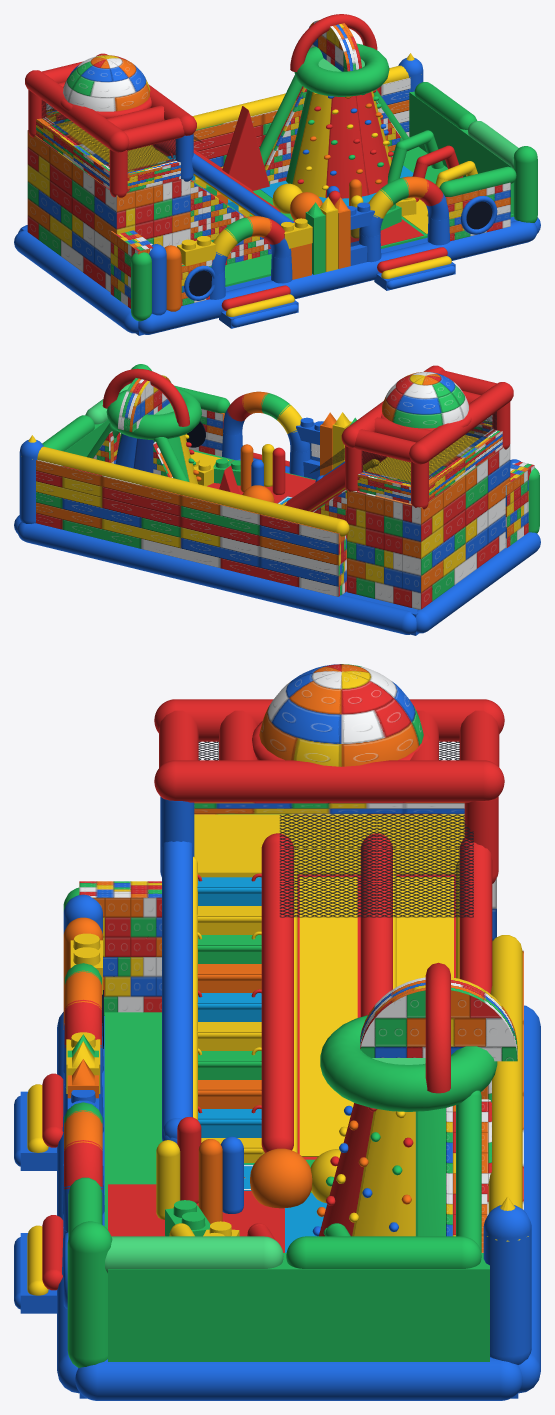
The model's file is bouncy_castle.glb.
The picture shows the model from 3 angles, top to bottom: view 1: azimuth 30°, elevation 25°; view 2: azimuth 150°, elevation 25°; view 3: azimuth 270°, elevation 25°; orthographic projection. The views are drawn at different scales.
Parts seen in each view (by area): view 1: Slide_Upper_Platform_And_Tower, Front_Entrances_And_Wall, Volcano_Climbing_Tower, Base_Mattress, Right_Wall_And_Obstacles, Slide_Climbing_Stairs, BackWall_And_VolcanoClimb, LegoMosaic_TopDome, Inner_Play_Obstacles, Center_Red_Fin, UpperPlatform_Floor, DualSlide_Lanes; view 2: Slide_Upper_Platform_And_Tower, BackWall_And_VolcanoClimb, Base_Mattress, Volcano_Climbing_Tower, Front_Entrances_And_Wall, LegoMosaic_TopDome, Right_Wall_And_Obstacles, Inner_Play_Obstacles, DualSlide_Lanes, UpperPlatform_Floor, Center_Red_Fin; view 3: Right_Wall_And_Obstacles, DualSlide_Lanes, Slide_Upper_Platform_And_Tower, Base_Mattress, Volcano_Climbing_Tower, Front_Entrances_And_Wall, Slide_Climbing_Stairs, UpperPlatform_Floor, LegoMosaic_TopDome, Inner_Play_Obstacles, BackWall_And_VolcanoClimb, SlideLane_2 (+9 smaller).
Part boxes in pixels (left/top/right/bottom): Slide_Upper_Platform_And_Tower: left=25, top=53, right=196, bottom=308; Front_Entrances_And_Wall: left=131, top=146, right=537, bottom=328; Volcano_Climbing_Tower: left=259, top=14, right=408, bottom=198; Base_Mattress: left=14, top=146, right=540, bottom=335; Right_Wall_And_Obstacles: left=387, top=53, right=518, bottom=216; Slide_Climbing_Stairs: left=168, top=152, right=294, bottom=264; BackWall_And_VolcanoClimb: left=192, top=65, right=410, bottom=168; LegoMosaic_TopDome: left=63, top=55, right=150, bottom=111; Inner_Play_Obstacles: left=272, top=179, right=416, bottom=238; Center_Red_Fin: left=222, top=106, right=269, bottom=190; UpperPlatform_Floor: left=59, top=123, right=169, bottom=169; DualSlide_Lanes: left=151, top=136, right=288, bottom=217; Slide_Upper_Platform_And_Tower: left=341, top=365, right=534, bottom=609; BackWall_And_VolcanoClimb: left=36, top=446, right=349, bottom=596; Base_Mattress: left=14, top=449, right=540, bottom=635; Volcano_Climbing_Tower: left=87, top=368, right=201, bottom=483; Front_Entrances_And_Wall: left=131, top=364, right=539, bottom=533; LegoMosaic_TopDome: left=382, top=371, right=468, bottom=428; Right_Wall_And_Obstacles: left=19, top=383, right=130, bottom=523; Inner_Play_Obstacles: left=191, top=444, right=285, bottom=502; DualSlide_Lanes: left=284, top=448, right=386, bottom=521; UpperPlatform_Floor: left=368, top=435, right=478, bottom=481; Center_Red_Fin: left=219, top=465, right=239, bottom=494; Right_Wall_And_Obstacles: left=105, top=1196, right=531, bottom=1364; DualSlide_Lanes: left=261, top=814, right=492, bottom=1167; Slide_Upper_Platform_And_Tower: left=79, top=699, right=504, bottom=1015; Base_Mattress: left=57, top=1005, right=540, bottom=1400; Volcano_Climbing_Tower: left=312, top=962, right=517, bottom=1252; Front_Entrances_And_Wall: left=14, top=887, right=112, bottom=1367; Slide_Climbing_Stairs: left=162, top=841, right=263, bottom=1154; UpperPlatform_Floor: left=194, top=814, right=464, bottom=877; LegoMosaic_TopDome: left=259, top=664, right=423, bottom=766; Inner_Play_Obstacles: left=156, top=1117, right=340, bottom=1236; BackWall_And_VolcanoClimb: left=487, top=935, right=523, bottom=1215; SlideLane_2: left=297, top=874, right=360, bottom=1159.
Bounding box in the file's own units: 12.64 × 6.28 × 7.45.
Materials: 13 (5 with a texture image).
